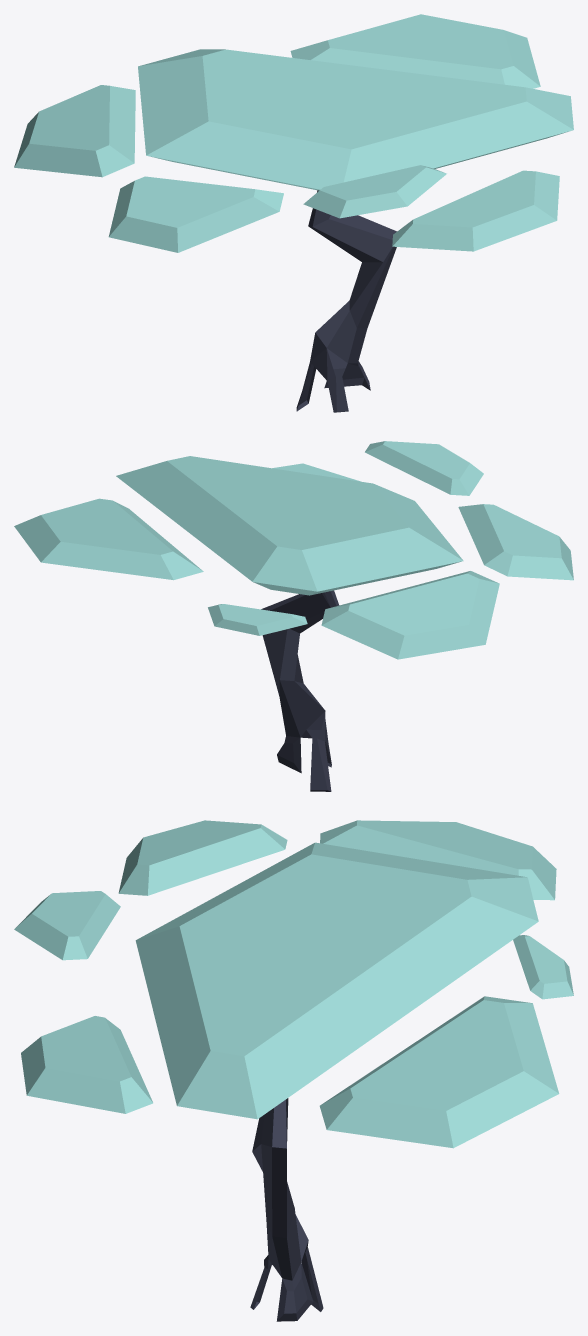
File: Tree_p03.fbx
3 renders of one model, top to bottom at view 1: azimuth 30°, elevation 25°; view 2: azimuth 150°, elevation 25°; view 3: azimuth 270°, elevation 25°, orthographic. The views are drawn at different scales.
Parts seen in each view (by area): view 1: Decosol01.017; view 2: Decosol01.017; view 3: Decosol01.017.
Part boxes in pixels (box(x1,y1,x2,y2)): Decosol01.017: box(14, 14, 573, 412); Decosol01.017: box(14, 441, 573, 791); Decosol01.017: box(14, 820, 573, 1321).
Size of the model in its own units: 878 by 517 by 652.
